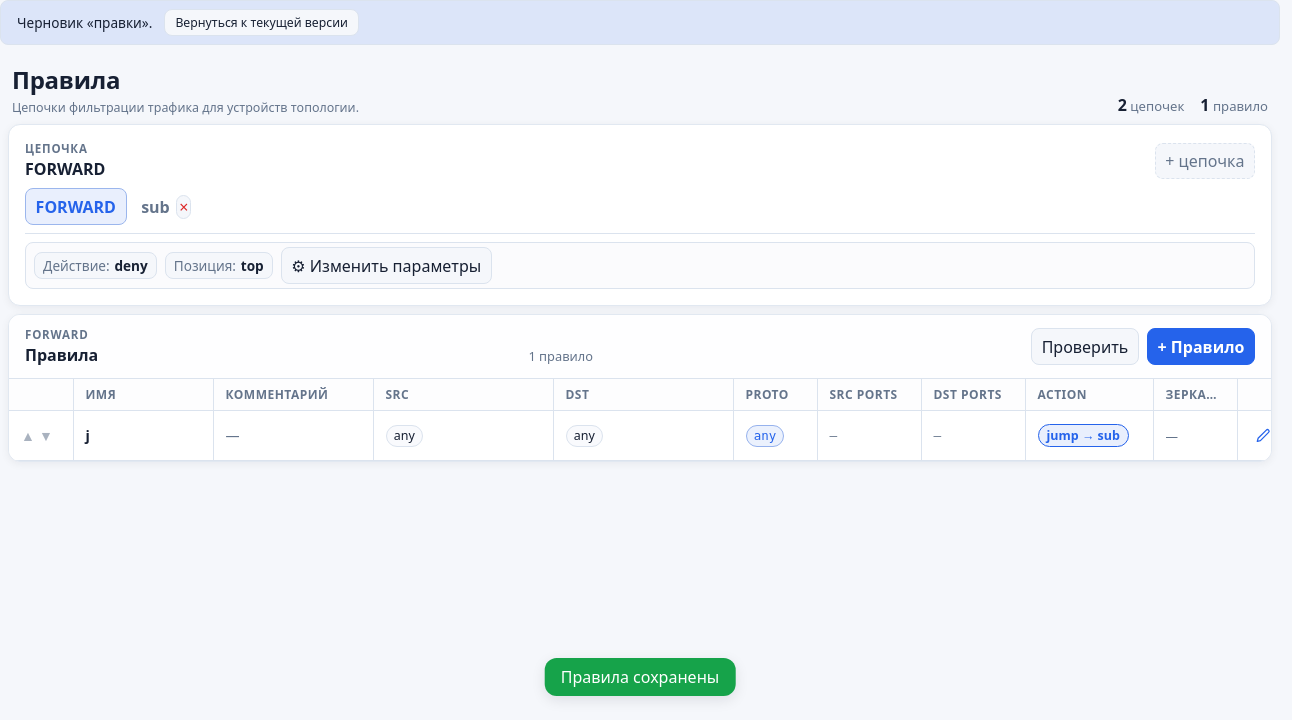
Test: RulesPage › refuses to delete a chain targeted by jump
Expected: the text "j" is shown, [73,411,213,461]
Click the button titled "Удалить цепочку sub" at (184, 207), box [176,195,192,219]
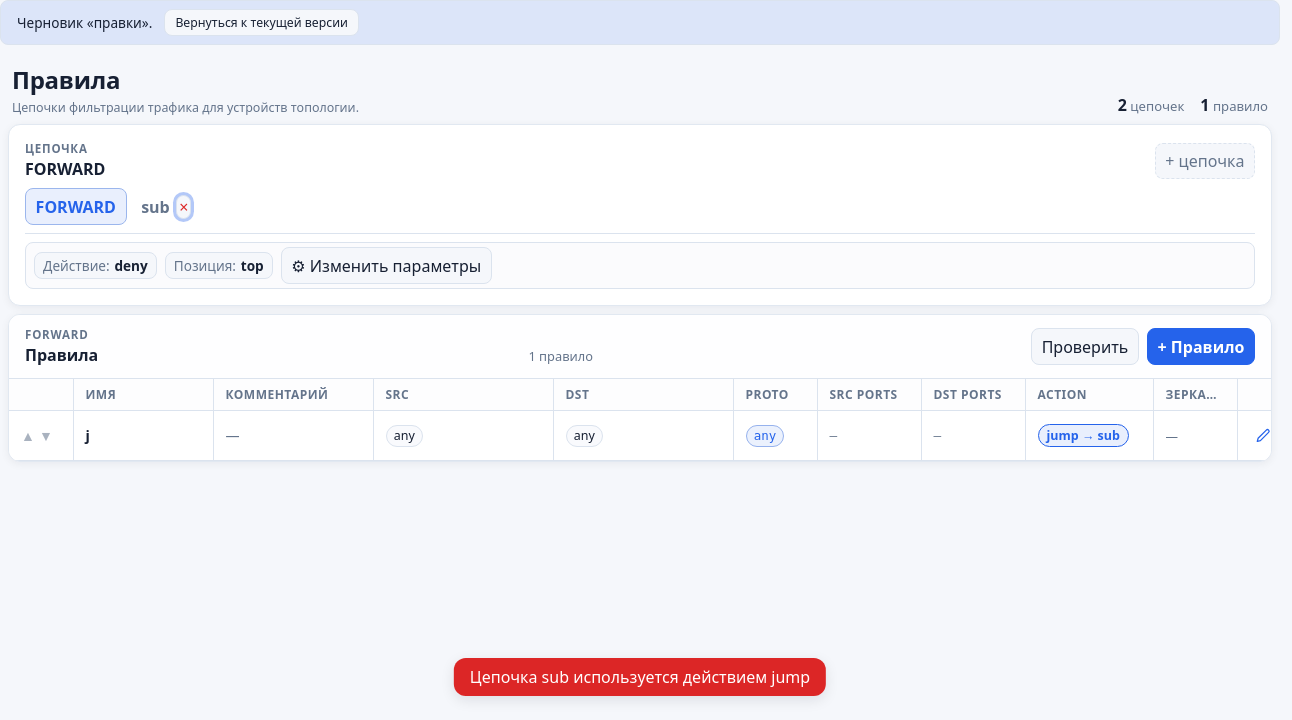
Expected: the text "Цепочка sub используется действием jump" is shown, [454,658,826,696]
